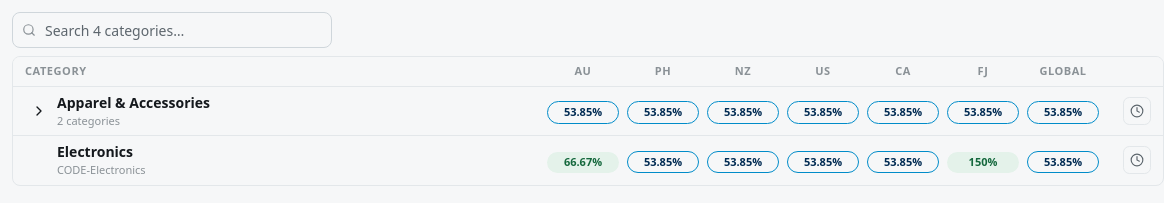
it: CategoryMarginTree › says plainly when a search matches nothing
The image size is (1164, 203).
Step 1. Type "zzz" into the search field → point(172, 30), box [12,12,332,48]
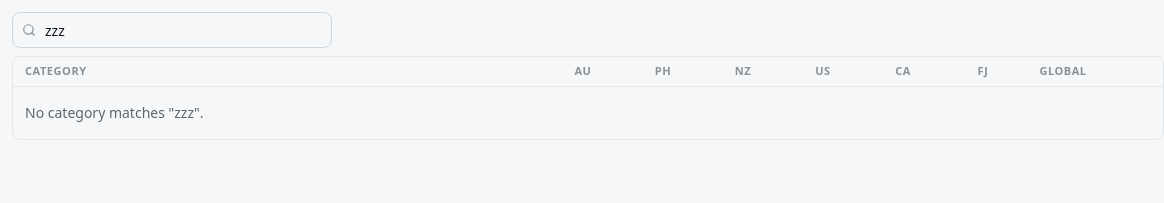
Check: the text "No category matches \"zzz\"." is shown, box [25,102,204,122]
